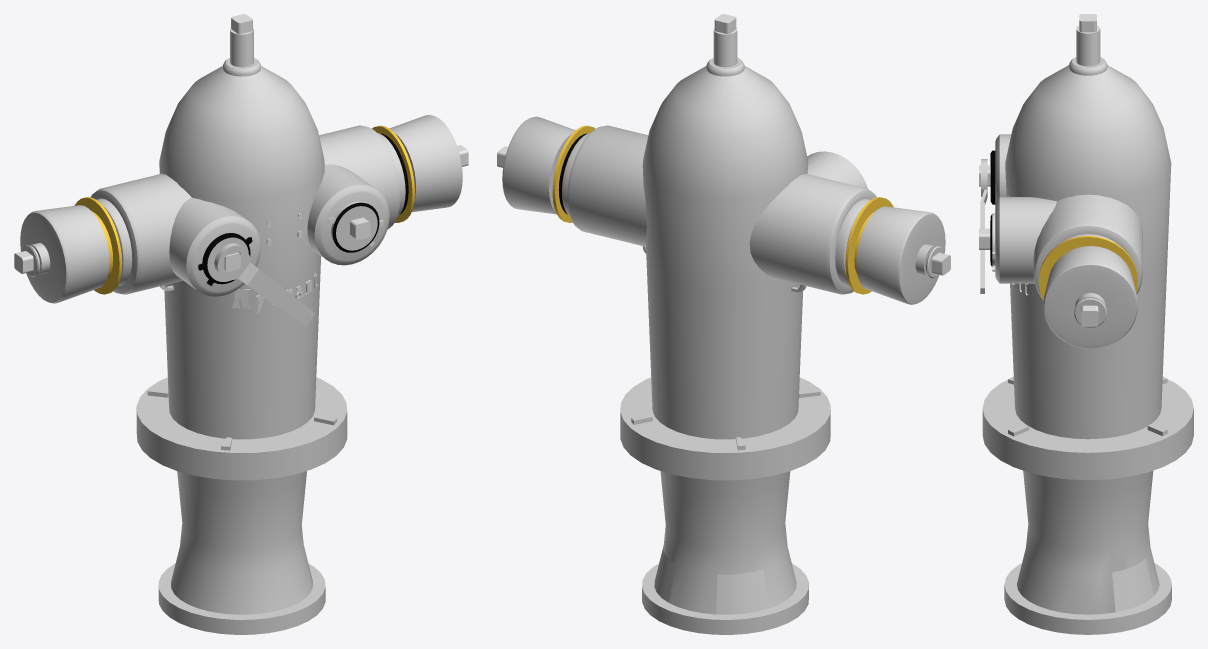
The model's file is Hydrant Pillar n Handle.fbx.
The picture shows the model from 3 angles, left to right: view 1: azimuth 30°, elevation 25°; view 2: azimuth 150°, elevation 25°; view 3: azimuth 270°, elevation 25°; orthographic projection.
Visible parts, largest first — view 1: Base, Tutup L, Tutup R, Handle, Twist 2, Twist 1, Teks Hydrant; view 2: Base, Tutup L, Tutup R; view 3: Base, Tutup R, Handle, R Bolt, Top Bolt, Twist 2, Twist 1.
Boxes of the visible parts, box(x1,y1,x2,y2) form: Base: box(74, 28, 414, 634); Tutup L: box(20, 205, 109, 303); Tutup R: box(389, 115, 462, 212); Handle: box(214, 243, 314, 325); Twist 2: box(328, 201, 383, 252); Twist 1: box(198, 233, 252, 285); Teks Hydrant: box(232, 271, 317, 312); Base: box(552, 28, 893, 634); Tutup L: box(856, 206, 945, 304); Tutup R: box(502, 116, 575, 214); Base: box(982, 25, 1193, 634); Tutup R: box(1043, 246, 1138, 348); Handle: box(980, 159, 987, 293); R Bolt: box(1081, 305, 1098, 326); Top Bolt: box(1079, 14, 1096, 32); Twist 2: box(990, 213, 995, 271); Twist 1: box(990, 150, 995, 204).
Bounding box in the file's own units: 179 × 224 × 74.83.
